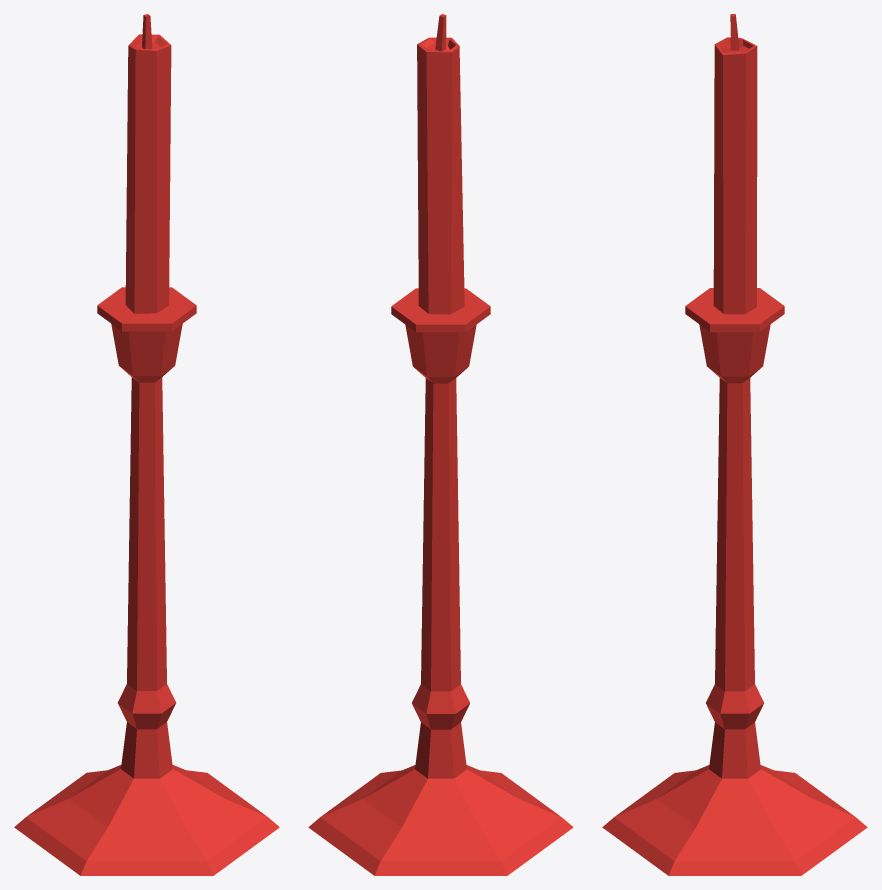
The model's file is SM_Candle_Holder_Tall_A_Unlit_Christmas.fbx.
3 views of the same model, side by side, from view 1: azimuth 30°, elevation 25°; view 2: azimuth 150°, elevation 25°; view 3: azimuth 270°, elevation 25° (orthographic).
Parts seen in each view (by area): view 1: candle-holder-tall-a-unlit-christmas; view 2: candle-holder-tall-a-unlit-christmas; view 3: candle-holder-tall-a-unlit-christmas.
Boxes of the visible parts, box(x1,y1,x2,y2) form: candle-holder-tall-a-unlit-christmas: box(14, 14, 279, 875); candle-holder-tall-a-unlit-christmas: box(308, 14, 573, 875); candle-holder-tall-a-unlit-christmas: box(602, 14, 867, 875).
Size of the model in its own units: 0.1644 by 0.64 by 0.1898.
